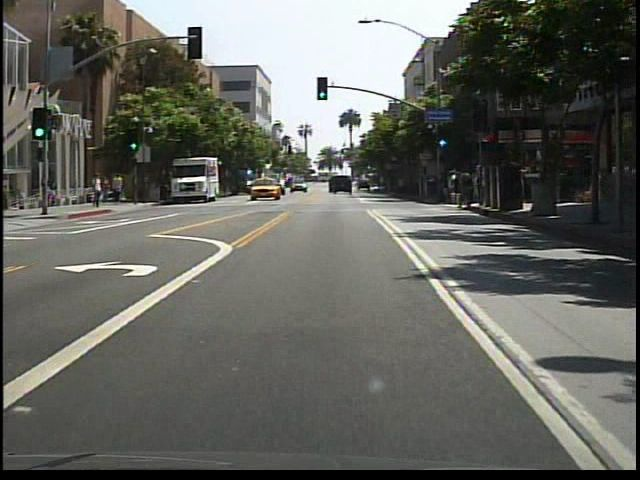person: (111, 171, 127, 204), (92, 173, 105, 210), (41, 181, 57, 210), (102, 175, 115, 204)
